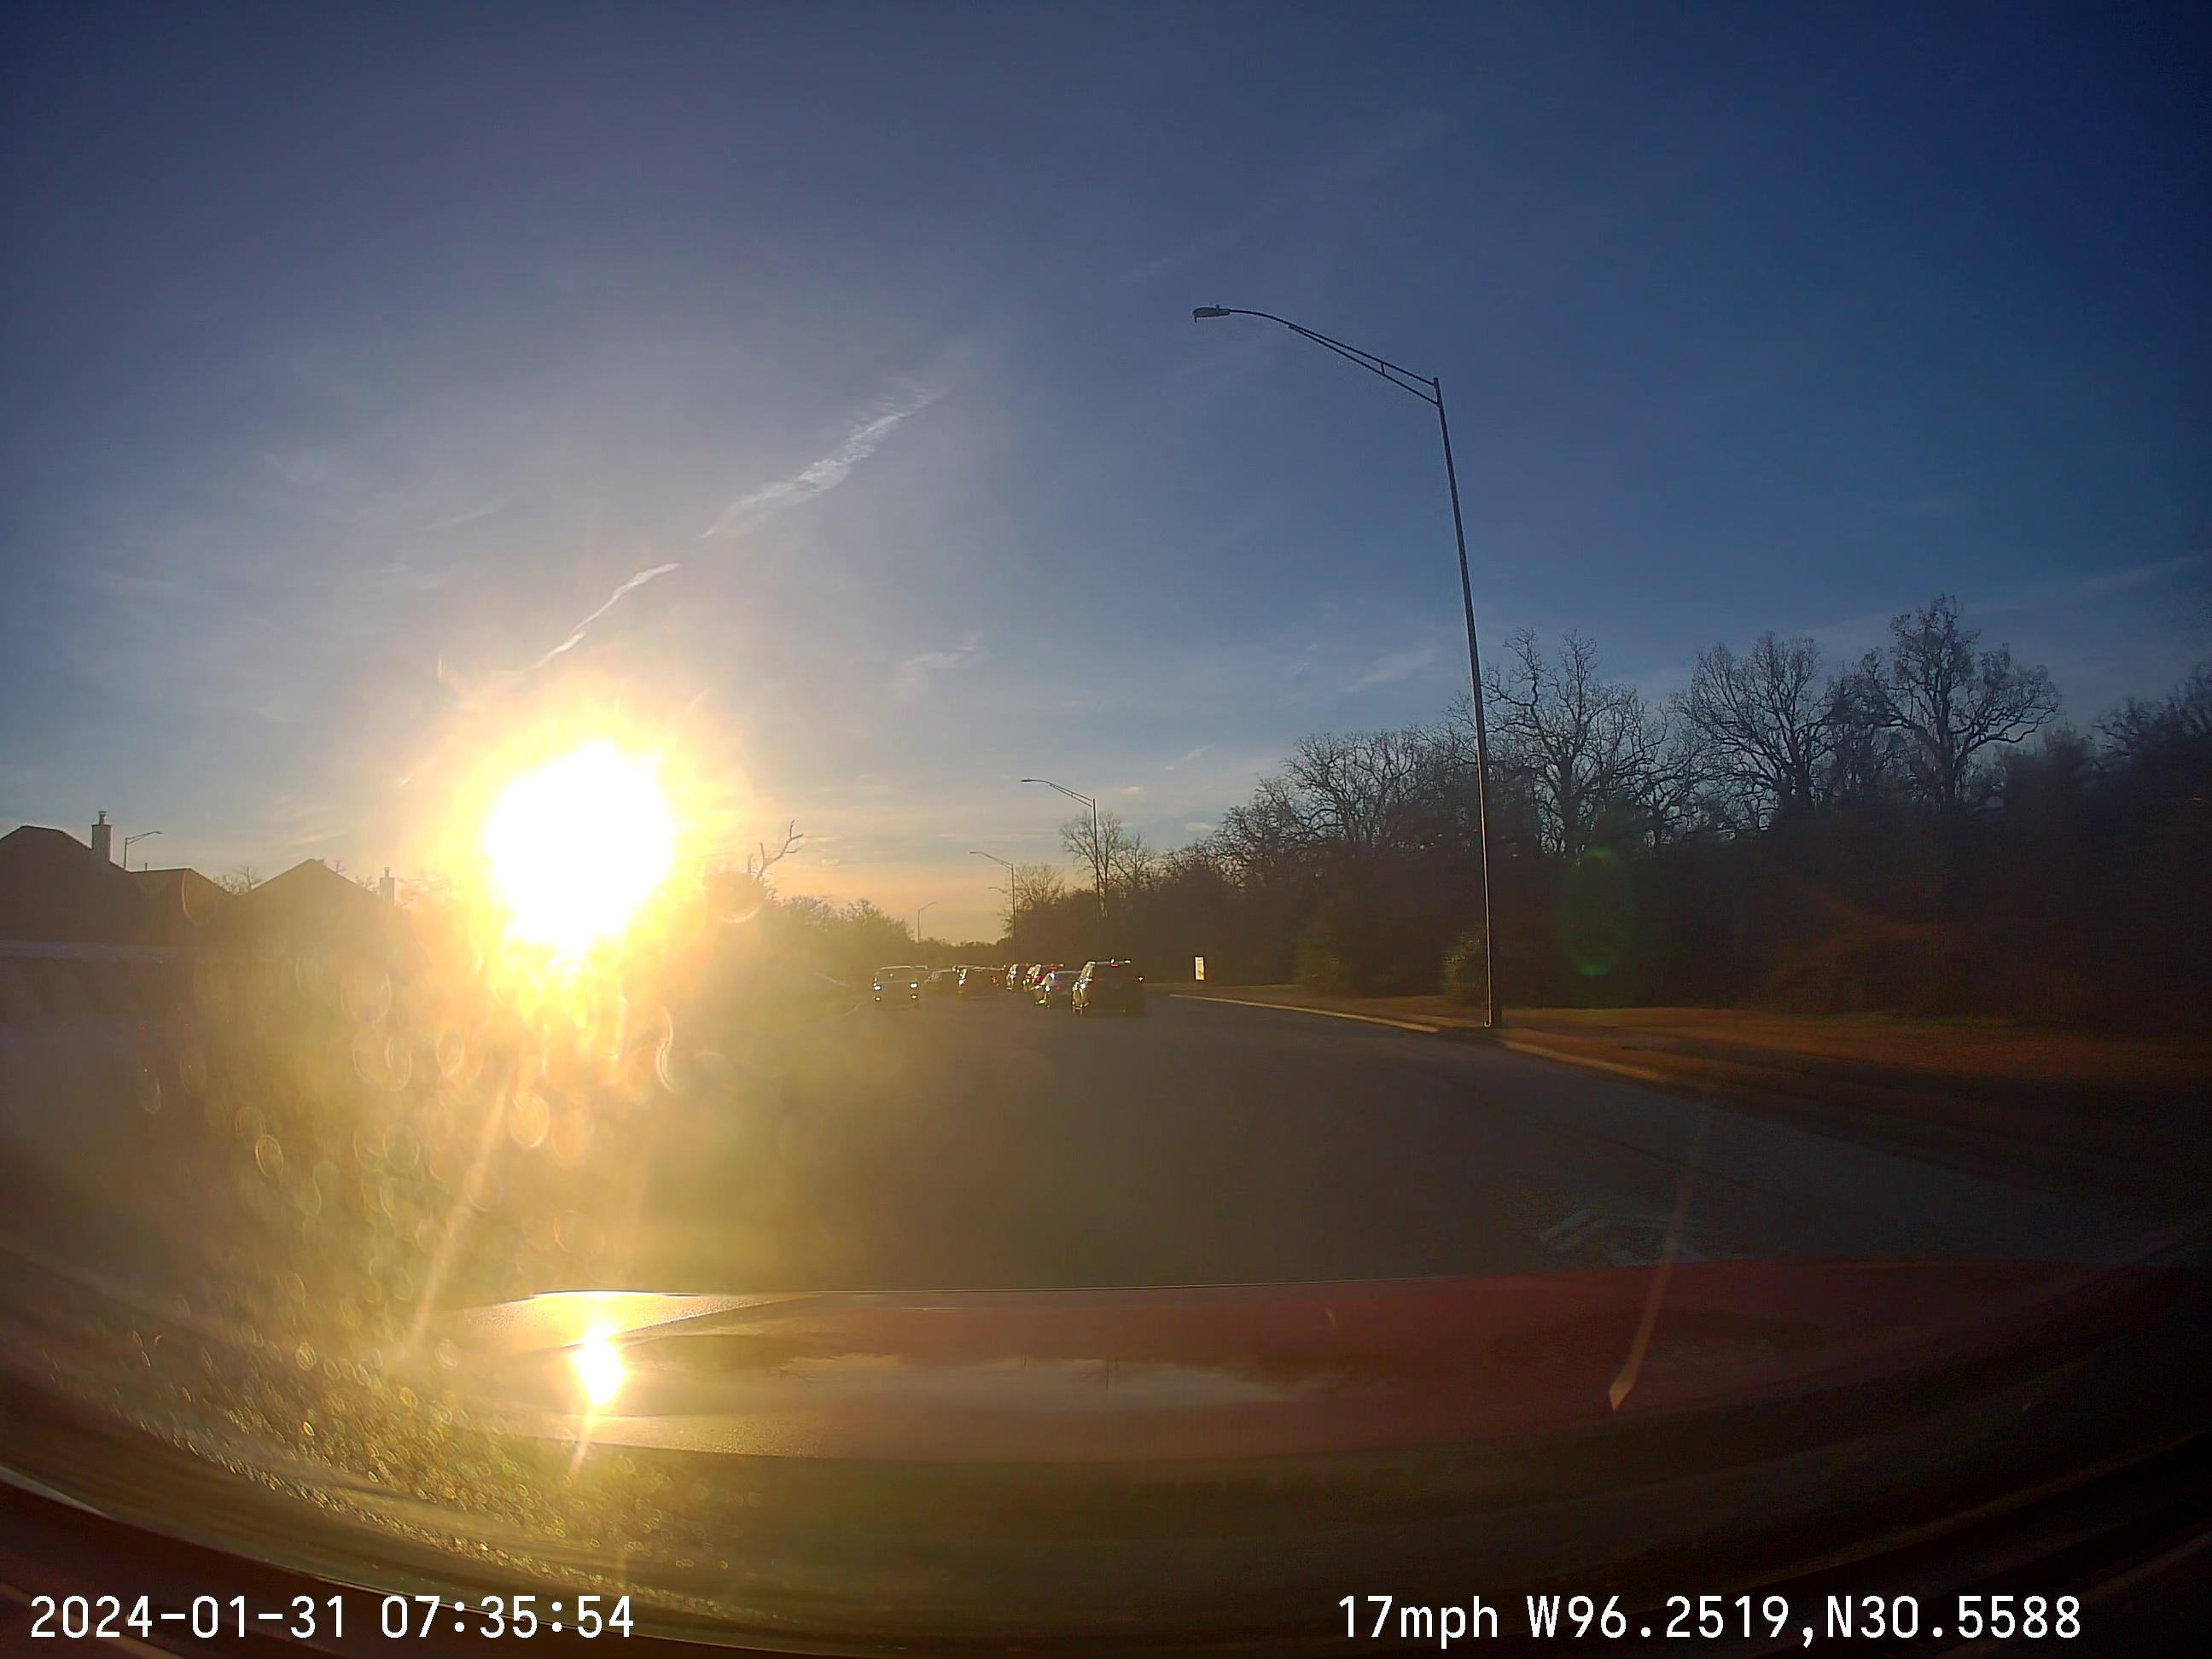car: (0, 829, 2212, 1654)
truck: (0, 829, 2212, 1654)
